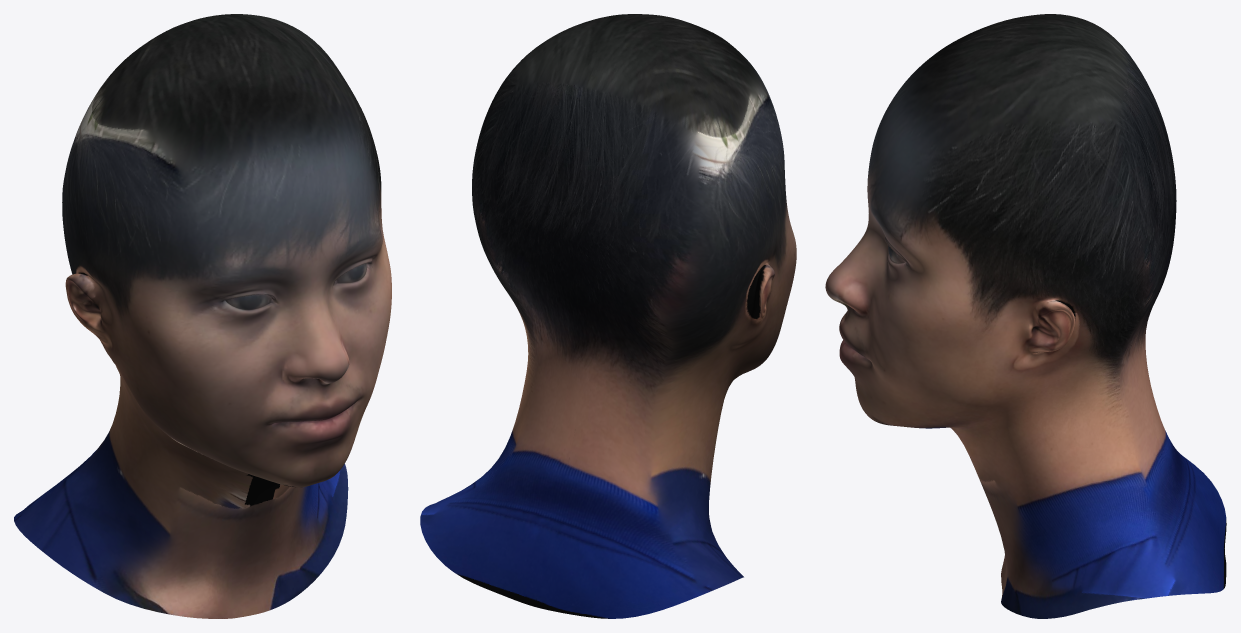
File: dat_head.glb
3 renders of one model, left to right at view 1: azimuth 30°, elevation 25°; view 2: azimuth 150°, elevation 25°; view 3: azimuth 270°, elevation 25°, orthographic. The views are drawn at different scales.
Parts seen in each view (by area): view 1: FBHead; view 2: FBHead; view 3: FBHead.
Boxes of the visible parts, x1=… form: FBHead: x1=14, y1=14, x2=391, y2=618; FBHead: x1=420, y1=14, x2=796, y2=618; FBHead: x1=825, y1=14, x2=1226, y2=618.
Size of the model in its own units: 1.64 by 2.84 by 1.83.
Materials: 1 (1 with a texture image).
